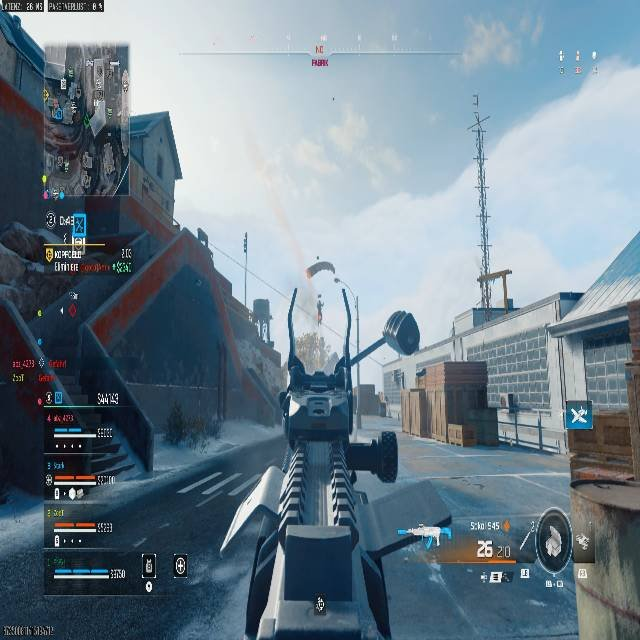player: (316, 294, 325, 323)
